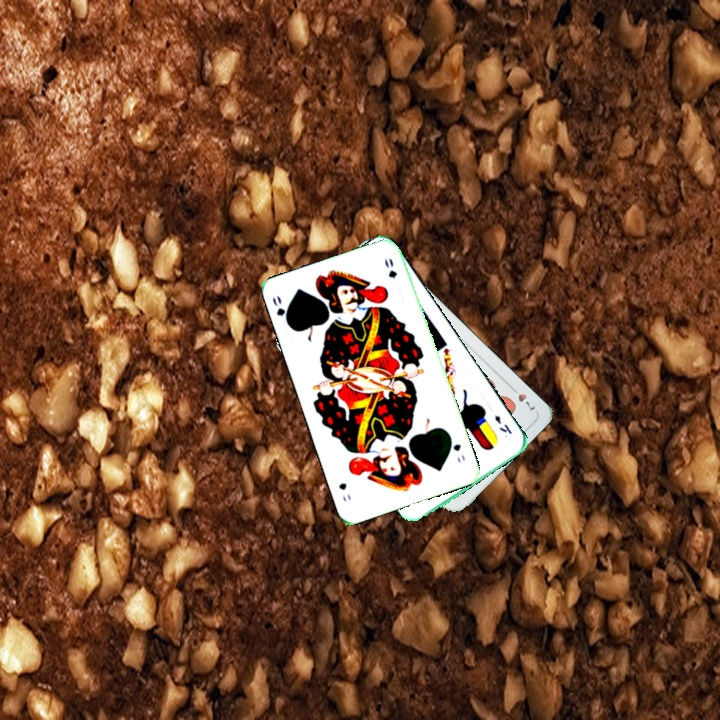EK: (490, 411, 515, 437)
GO: (268, 291, 293, 330), (445, 431, 467, 465)
H7: (506, 382, 538, 413)
